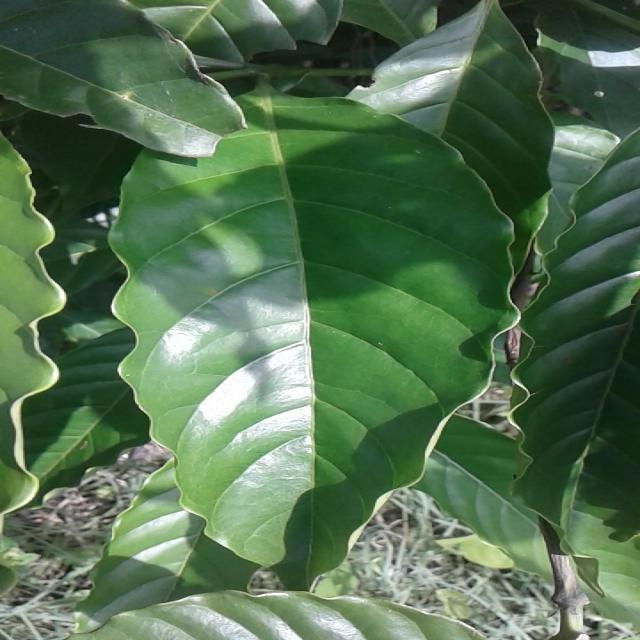Enfermedad-Roya: (108, 96, 519, 592)
